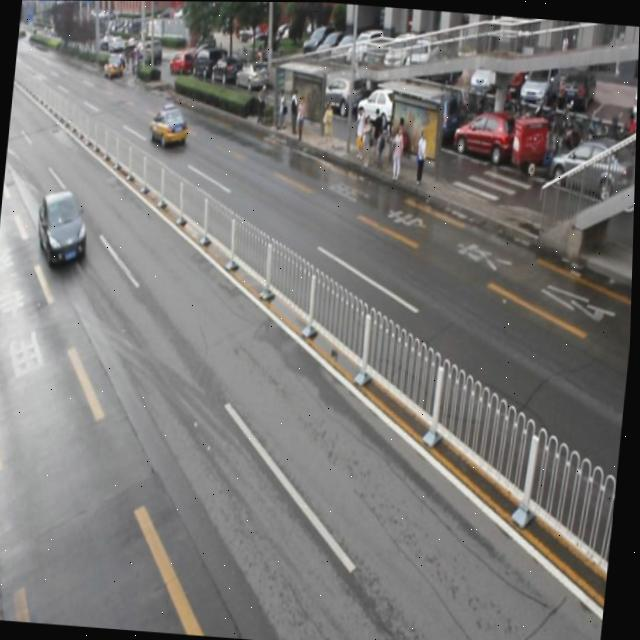car: (37, 190, 92, 267), (148, 102, 190, 150)
